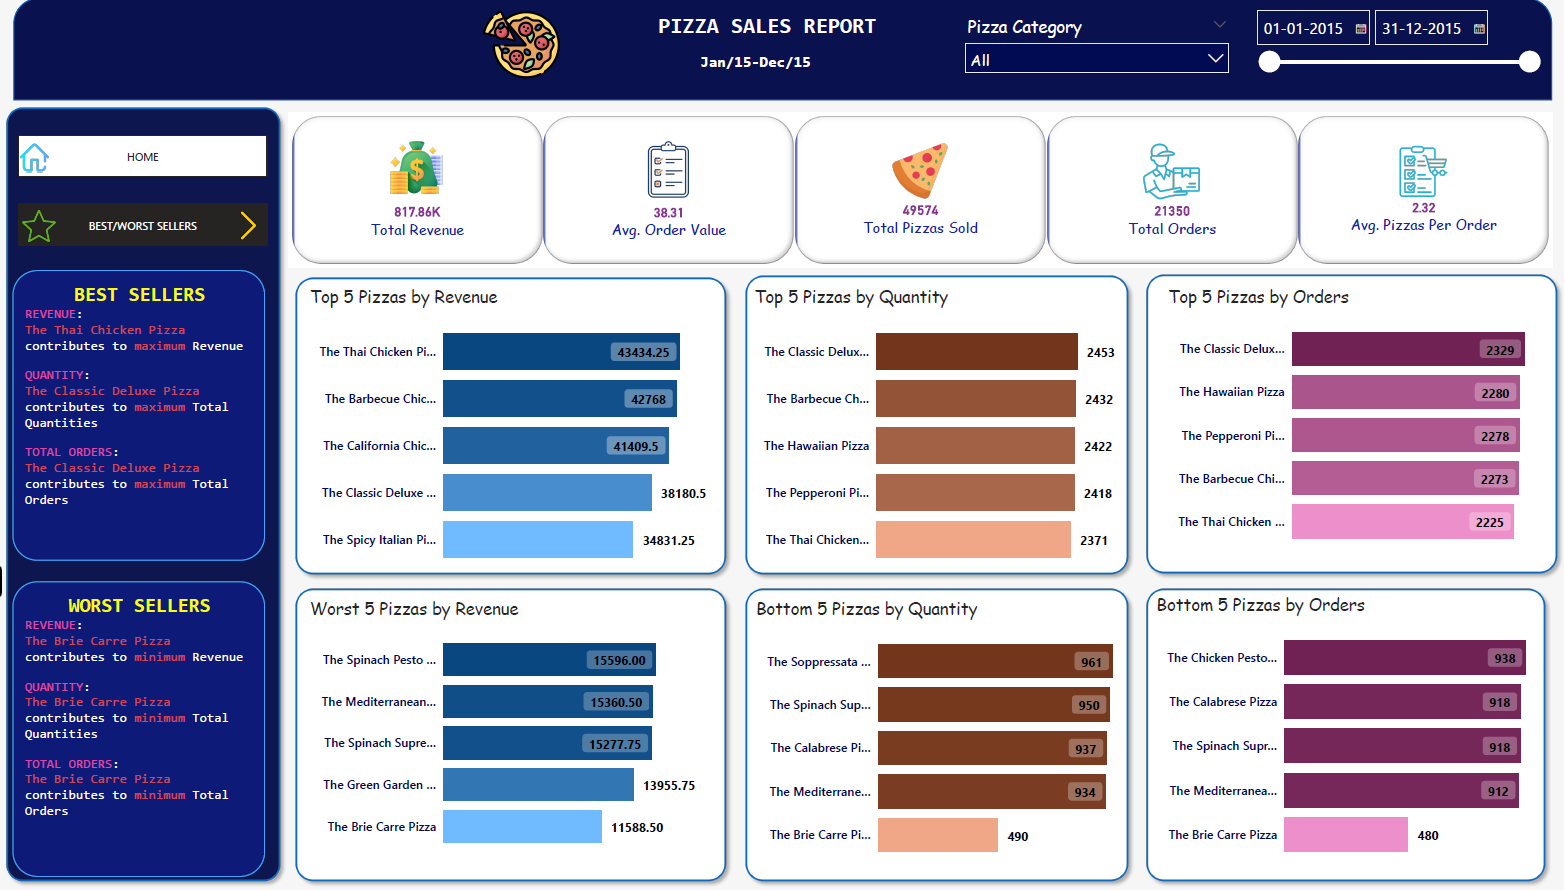

The page's visual inventory and layout, read from the dashboard file:
{"tool":"powerbi","page":{"name":"BEST/WORST SELLERS","canvas":[1900,1100],"ordinal":1},"visuals":[{"type":"cardVisual","fields":{"Data":["pizza_sales.Total Revenue","pizza_sales.Avg. Order Value","pizza_sales.Total Pizzas Sold","pizza_sales.Total Orders","pizza_sales.Avg. Pizzas Per Order"]},"box":[357.9,143.9,1528.1,187.7],"z":0},{"type":"shape","box":[25.5,6.4,1859.6,123.4],"z":1000},{"type":"textbox","box":[800,19.1,302.1,48.9],"z":2000},{"type":"textbox","box":[851.1,68.1,197.9,44.7],"z":3000},{"type":"image","box":[568.1,10.6,142.6,102.1],"z":4000},{"type":"shape","box":[357.9,335.1,538.6,375.4],"z":5000},{"type":"shape","box":[8.8,129.8,349.1,952.6],"z":6000},{"type":"textbox","box":[24.6,335.1,305.3,350.9],"z":7000},{"type":"textbox","box":[24.6,710.5,305.3,357.9],"z":8000},{"type":"slicer","fields":{"Values":["pizza_sales.pizza_category"]},"box":[1166,21.3,338.3,91.5],"z":9000},{"type":"slicer","fields":{"Values":["pizza_sales.order_date"]},"box":[1514.9,10.6,363.8,102.1],"z":10000},{"type":"shape","box":[901.8,333.3,480.7,377.2],"z":11000},{"type":"shape","box":[1386,331.6,514,378.9],"z":12000},{"type":"shape","box":[357.9,710.5,538.6,371.9],"z":13000},{"type":"shape","box":[901.8,710.5,480.7,371.9],"z":14000},{"type":"shape","box":[1386,710.5,500,371.9],"z":15000},{"type":"barChart","title":"Top 5 Pizzas by Revenue","fields":{"Category":["pizza_sales.pizza_name"],"Y":["pizza_sales.Total Revenue"]},"box":[378.9,352.6,500,357.9],"z":16000},{"type":"barChart","title":"Worst 5 Pizzas by Revenue","fields":{"Category":["pizza_sales.pizza_name"],"Y":["pizza_sales.Total Revenue"]},"box":[378.9,729.8,500,322.8],"z":17000},{"type":"barChart","title":"Top 5 Pizzas by Quantity","fields":{"Category":["pizza_sales.pizza_name"],"Y":["pizza_sales.Total Pizzas Sold"]},"box":[915.8,352.6,454.4,357.9],"z":18000},{"type":"barChart","title":"Bottom 5 Pizzas by Quantity","fields":{"Category":["pizza_sales.pizza_name"],"Y":["pizza_sales.Total Pizzas Sold"]},"box":[917.5,729.8,452.6,335.1],"z":19000},{"type":"barChart","title":"Top 5 Pizzas by Orders","fields":{"Category":["pizza_sales.pizza_name"],"Y":["pizza_sales.Total Orders"]},"box":[1415.8,352.6,461.4,333.3],"z":20000},{"type":"barChart","title":"Bottom 5 Pizzas by Orders","fields":{"Category":["pizza_sales.pizza_name"],"Y":["pizza_sales.Total Orders"]},"box":[1401.8,724.6,475.4,340.4],"z":21000},{"type":"pageNavigator","box":[31.6,172.4,301.3,50],"z":22000},{"type":"pageNavigator","box":[31.6,255.3,301.3,50],"z":23000},{"type":"image","box":[28.9,176.3,44.7,46.1],"z":24000},{"type":"image","box":[31.6,251.3,50,60.5],"z":25000},{"type":"image","box":[286.8,259.2,46.1,43.4],"z":26000}]}

Visuals, with their boxes in screenshot pixels (x1, y1, x2, y2), scaled from the page's 1900x1100 canvas onto the 1564x890 screenshot:
cardVisual - pizza_sales.Total Revenue x pizza_sales.Avg. Order Value: (295, 116, 1552, 268)
shape: (21, 5, 1552, 105)
textbox: (659, 15, 907, 55)
textbox: (701, 55, 863, 91)
image: (468, 9, 585, 91)
shape: (295, 271, 738, 575)
shape: (7, 105, 295, 876)
textbox: (20, 271, 272, 555)
textbox: (20, 575, 272, 864)
slicer - pizza_sales.pizza_category: (960, 17, 1238, 91)
slicer - pizza_sales.order_date: (1247, 9, 1546, 91)
shape: (742, 270, 1138, 575)
shape: (1141, 268, 1563, 575)
shape: (295, 575, 738, 876)
shape: (742, 575, 1138, 876)
shape: (1141, 575, 1552, 876)
"Top 5 Pizzas by Revenue" barChart: (312, 285, 723, 575)
"Worst 5 Pizzas by Revenue" barChart: (312, 590, 723, 852)
"Top 5 Pizzas by Quantity" barChart: (754, 285, 1128, 575)
"Bottom 5 Pizzas by Quantity" barChart: (755, 590, 1128, 862)
"Top 5 Pizzas by Orders" barChart: (1165, 285, 1545, 555)
"Bottom 5 Pizzas by Orders" barChart: (1154, 586, 1545, 862)
pageNavigator: (26, 139, 274, 180)
pageNavigator: (26, 207, 274, 247)
image: (24, 143, 61, 180)
image: (26, 203, 67, 252)
image: (236, 210, 274, 245)
